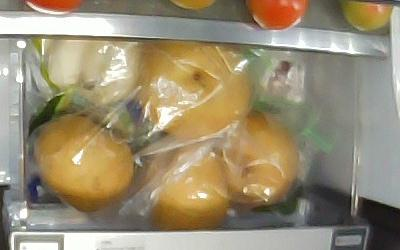pear_vinyl: (139, 42, 250, 140), (36, 113, 132, 212), (216, 112, 298, 205), (147, 144, 226, 231)
